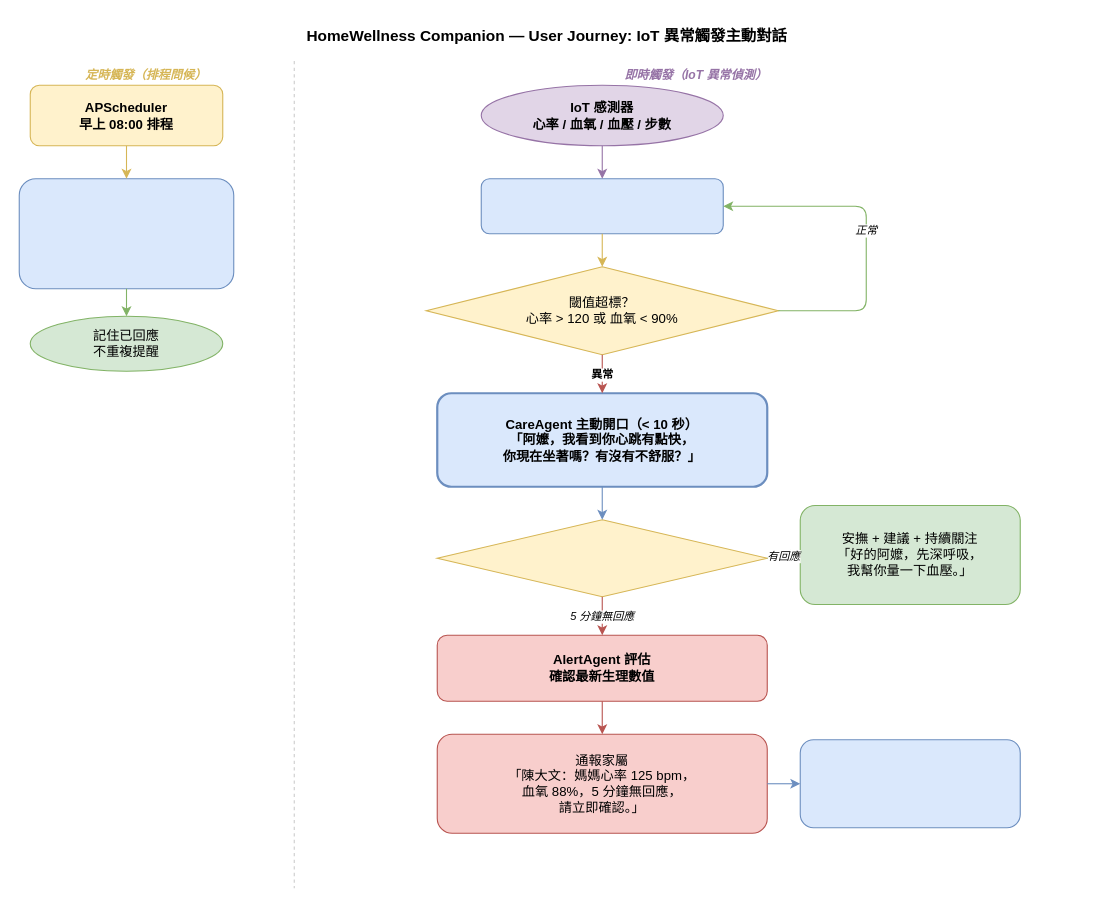
The diagram is 1095 pixels wide and 909 high, and some of its shapes have lost their labels. The centre of each missing label's shape, as x and y in pixels:
APScheduler 輪詢（每 5 秒）: the point at 601,206
CareAgent 主動問候 「阿嬤早安！昨晚睡了 6.5 小時， 早餐後記得吃血壓藥喔， 今天感覺怎麼樣？」: the point at 126,233
CareAgent 安撫長者 「我已經告訴大文了， 你先放輕鬆，我陪著你。」: the point at 909,783
長者回應？: the point at 601,558
